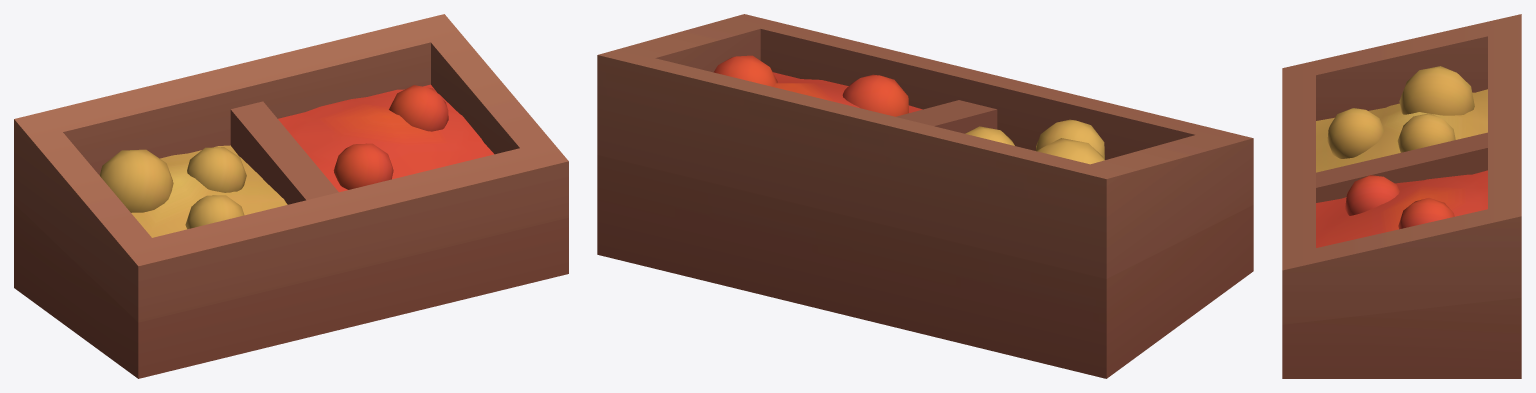
The model's file is kaykit-medieval-hexagon-pack-crate-long-a.glb.
3 views of the same model, side by side, from view 1: azimuth 30°, elevation 25°; view 2: azimuth 150°, elevation 25°; view 3: azimuth 270°, elevation 25° (orthographic). The views are drawn at different scales.
Parts seen in each view (by area): view 1: crate_long_A; view 2: crate_long_A; view 3: crate_long_A.
Boxes of the visible parts, <box> form: crate_long_A: <box>14,14,568,378</box>; crate_long_A: <box>597,14,1253,378</box>; crate_long_A: <box>1282,14,1521,378</box>.
Size of the model in its own units: 0.4 by 0.15 by 0.2.
1 material, 1 textured.
